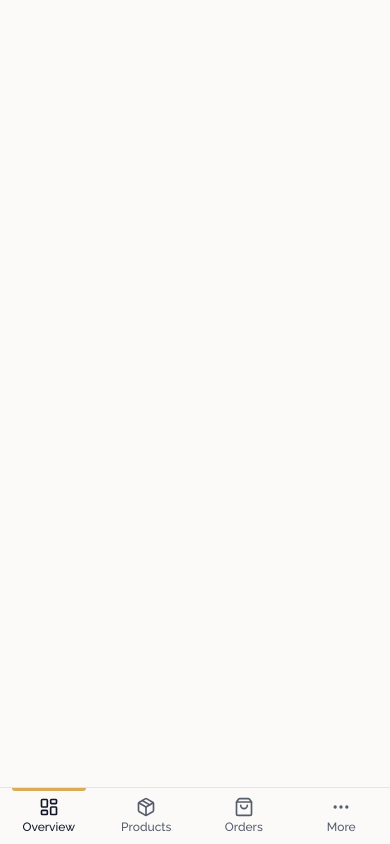
Test: TabBar › closes the sheet when a link in it is chosen
Click the button "More": (341, 816) [292,788,389,843]
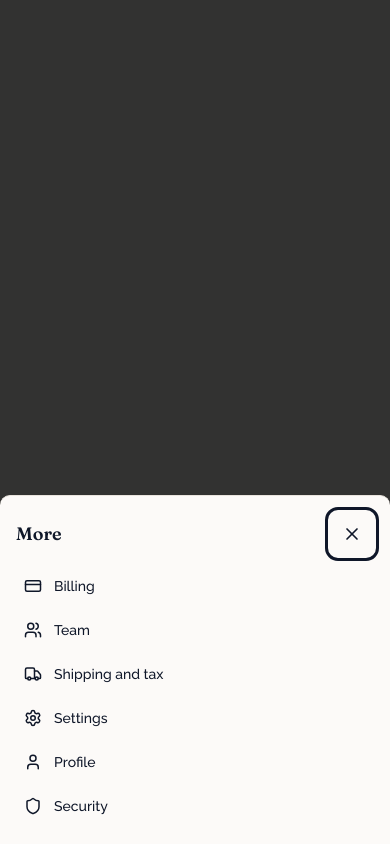
Click the link "Billing": (59, 586) [24,577,95,595]
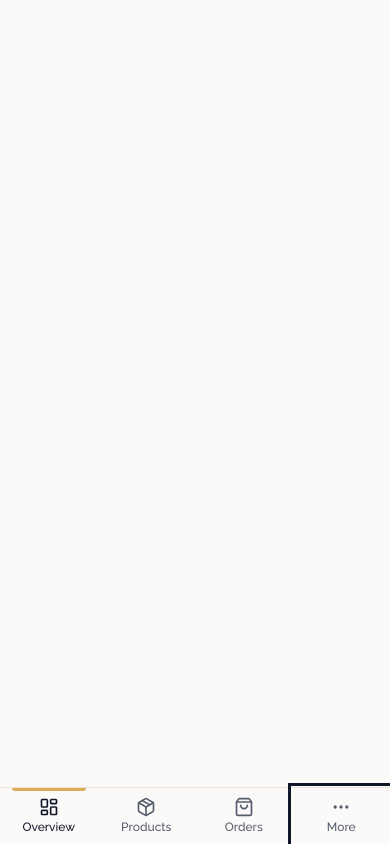
expect the dialog is gone: met
